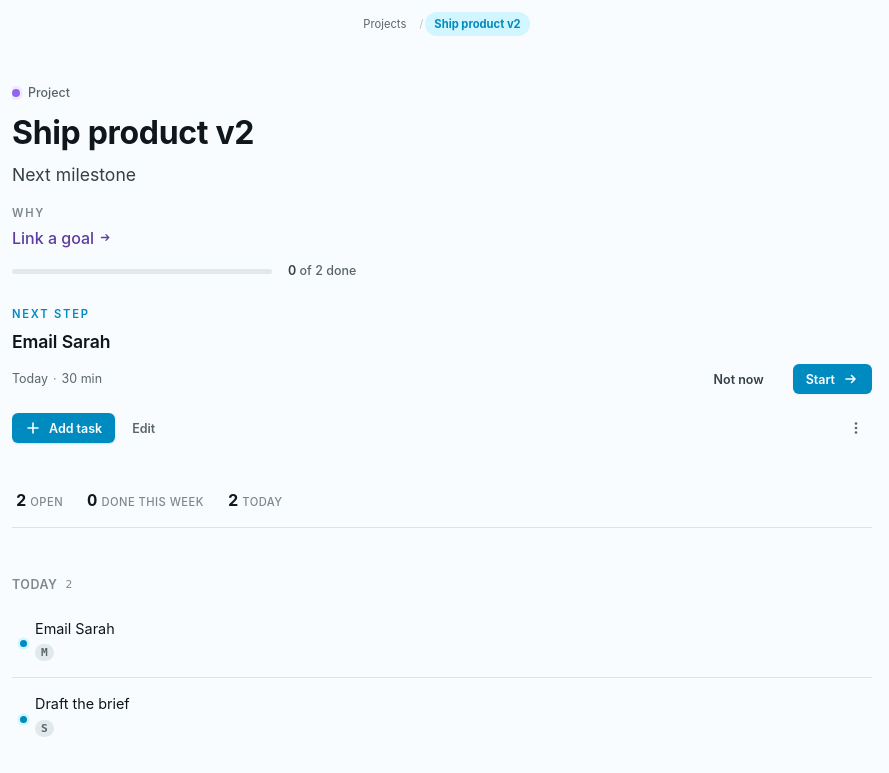
it: ProjectDetailPage — Edit affordance on task rows › opens and closes open-task actions instead of opening task detail
Click the text "Email Sarah" at (75,628), box [35,620,115,636]
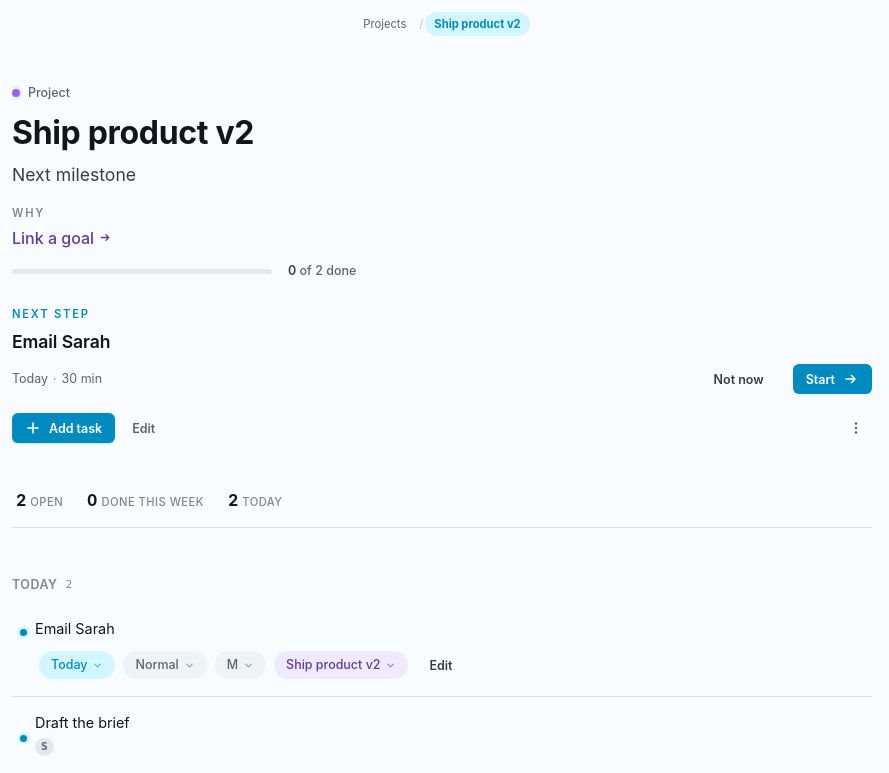
Check: the button "Email Sarah" is expanded, box [12,602,872,697]
Click the text "Email Sarah" at (75,628), box [35,620,115,636]
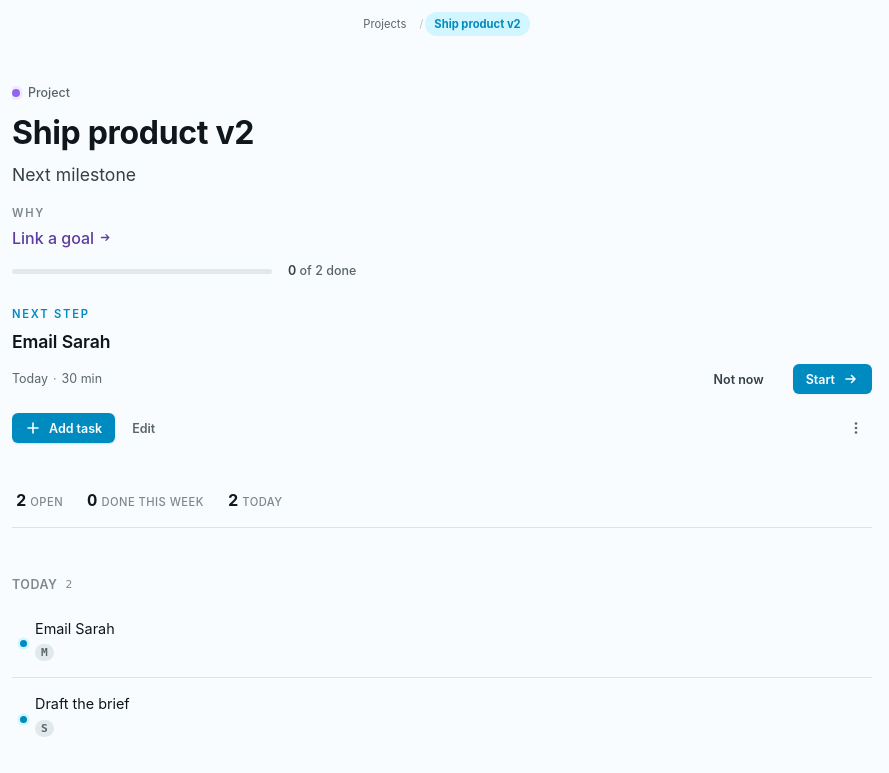
Check: the button "Email Sarah M" is collapsed, box [12,602,872,678]
